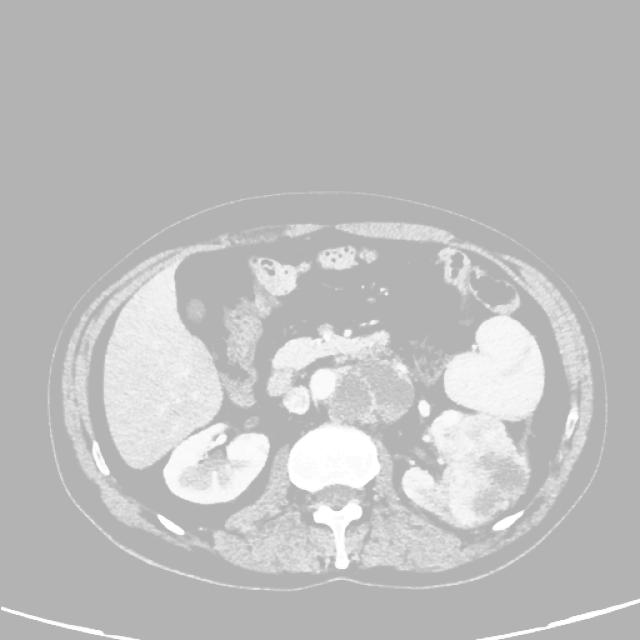TUMOR: (184, 224, 504, 430)
